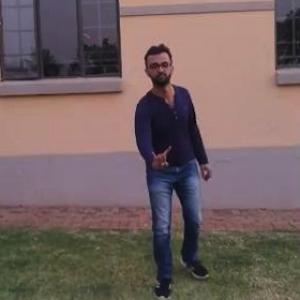takeoff-hand: (146, 139, 174, 174)
